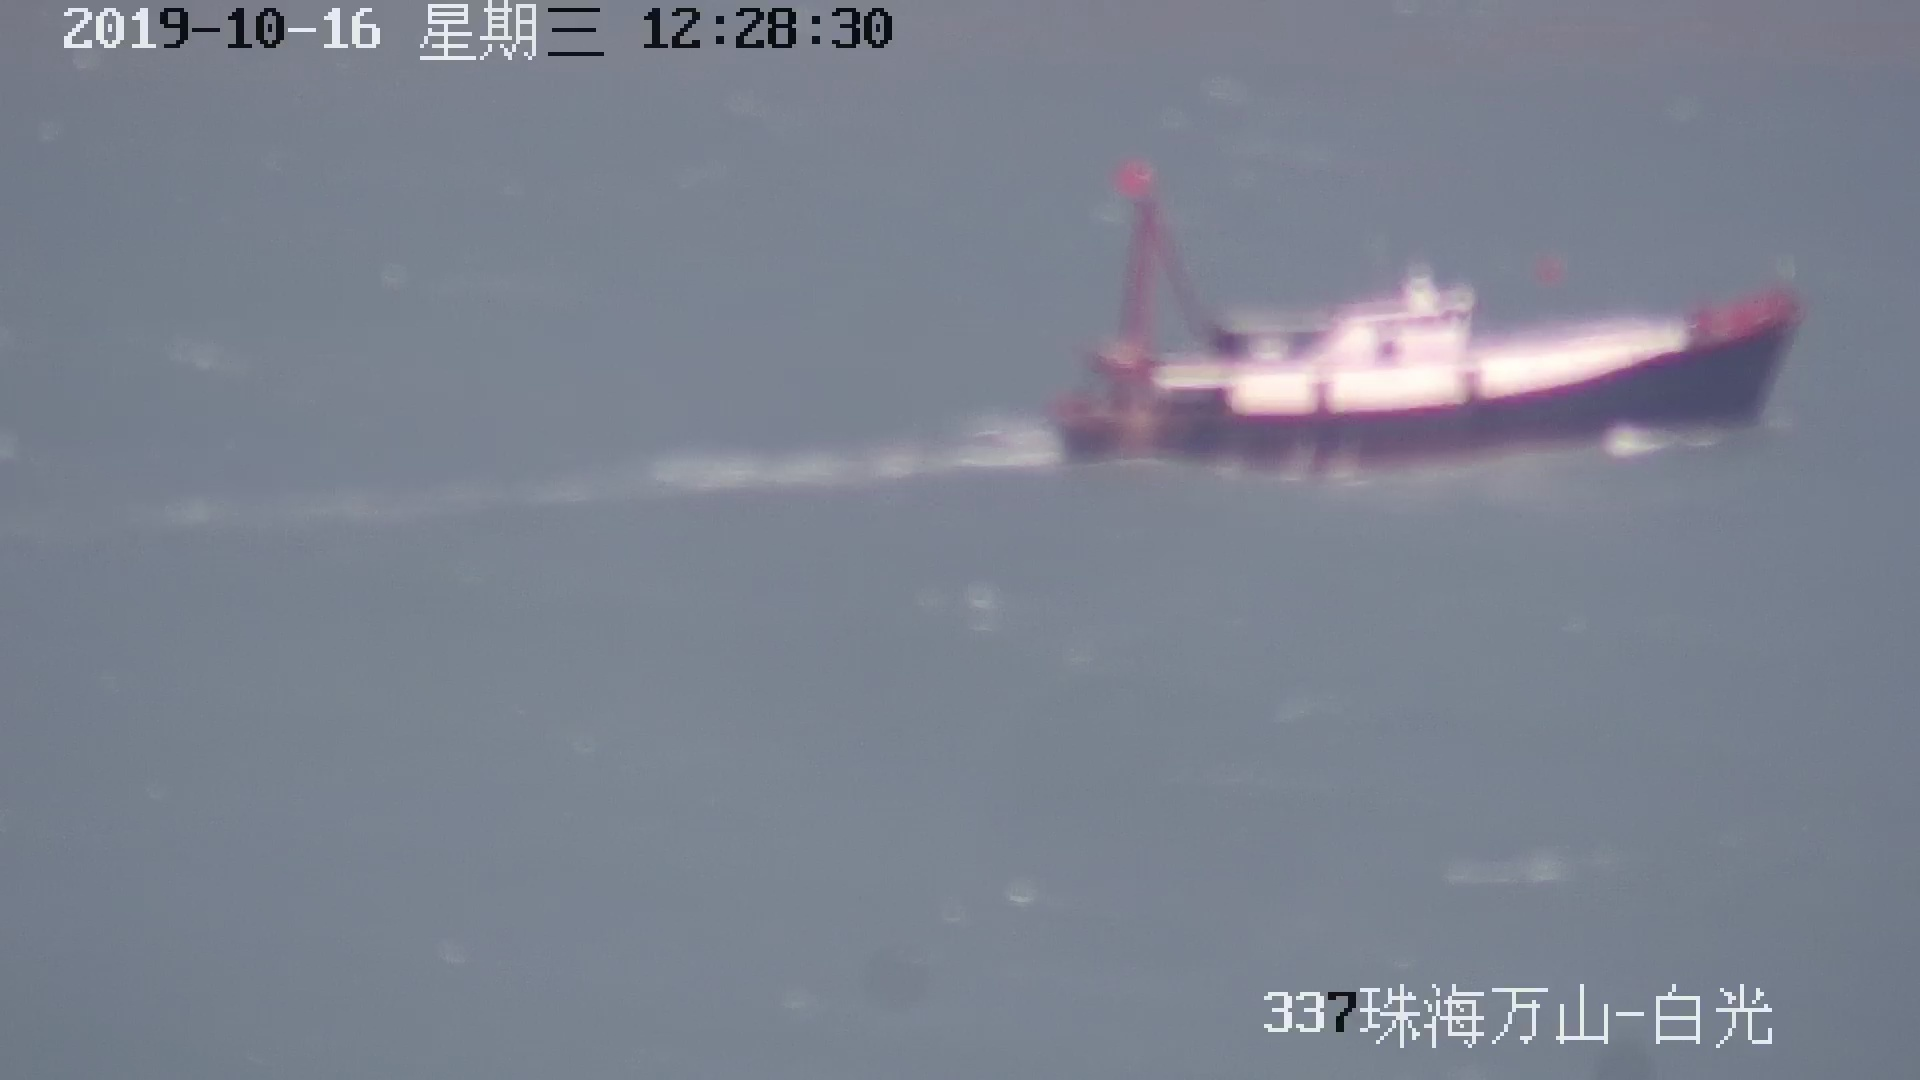ship: (1048, 183, 1803, 463)
